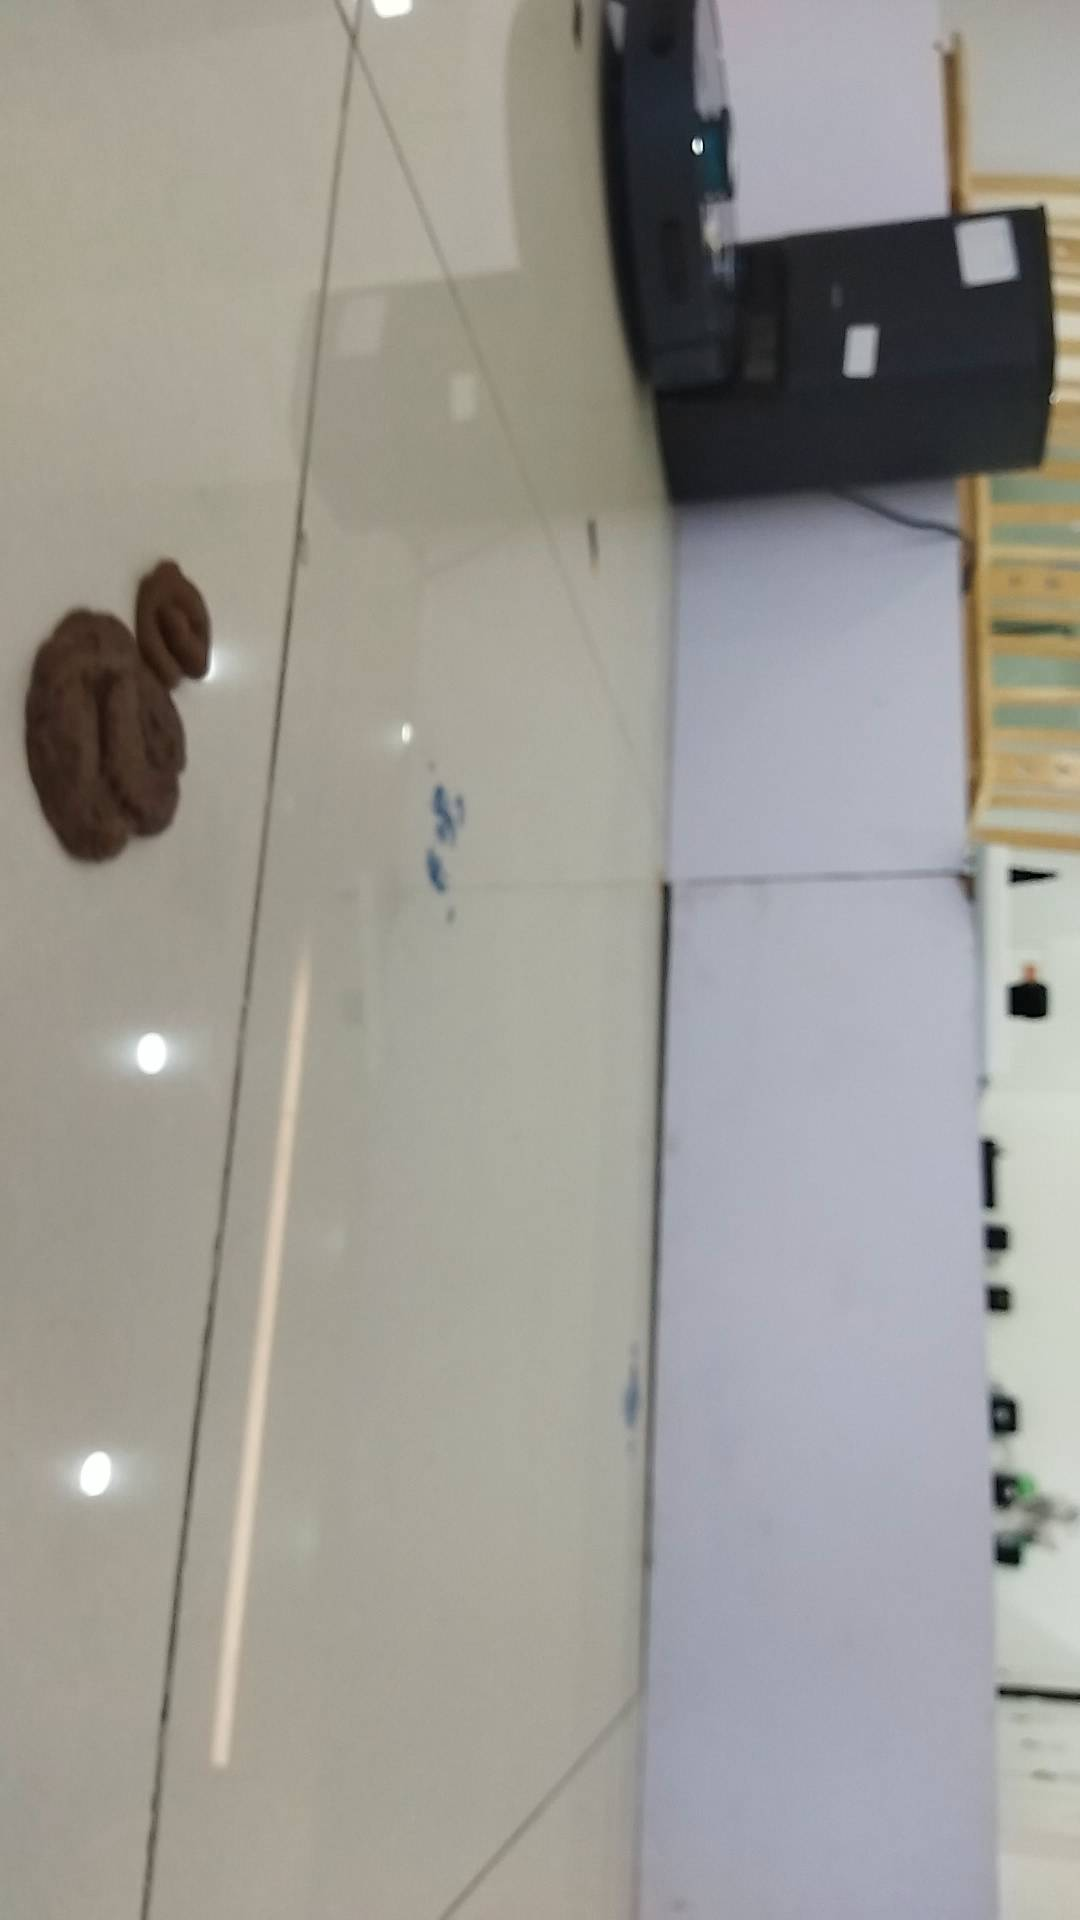dust collecting barrel: (666, 195, 1058, 506)
